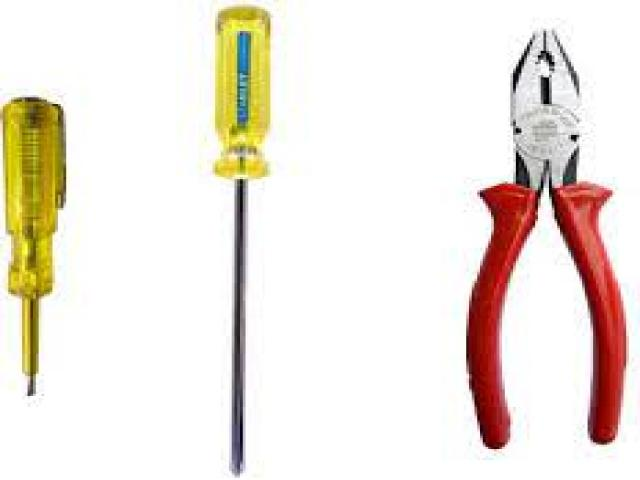Pliers: (468, 30, 624, 448)
Screwdriver: (214, 6, 270, 475), (2, 97, 65, 395)
